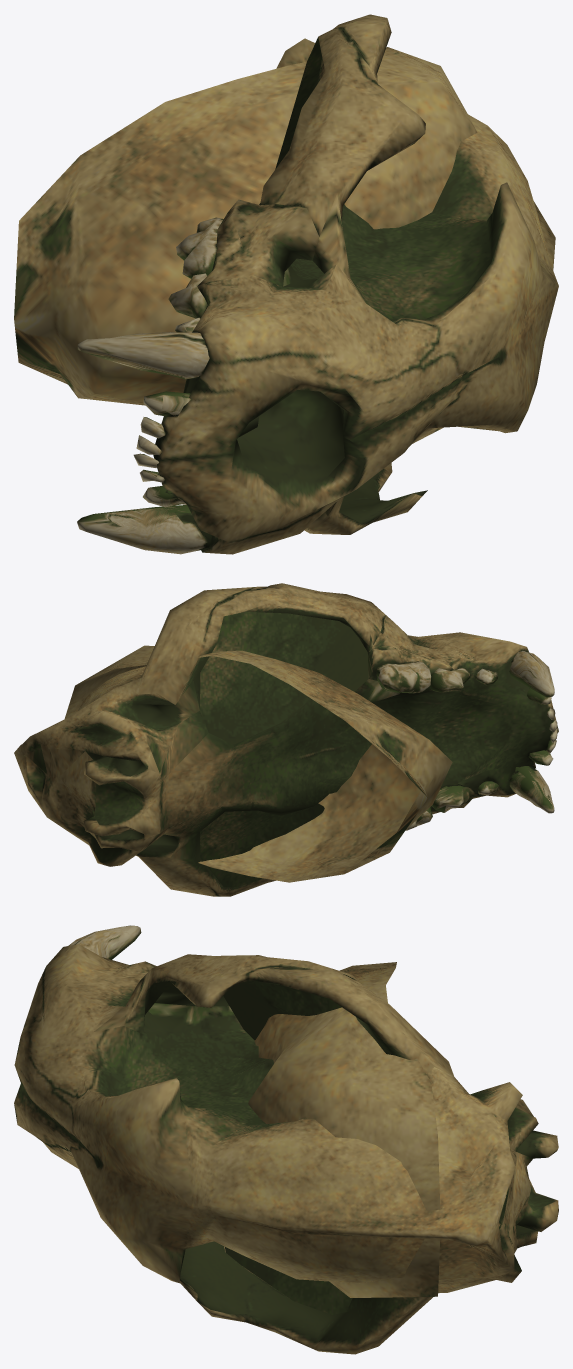
The model's file is M_CougarSkullMask.fbx.
3 views of the same model, one above another, from view 1: azimuth 30°, elevation 25°; view 2: azimuth 150°, elevation 25°; view 3: azimuth 270°, elevation 25° (orthographic). The views are drawn at different scales.
Parts seen in each view (by area): view 1: Cougar.001; view 2: Cougar.001; view 3: Cougar.001.
Part boxes in pixels (box(x1,y1,x2,y2)): Cougar.001: box(14, 14, 558, 554); Cougar.001: box(14, 583, 558, 896); Cougar.001: box(14, 925, 558, 1354).
Size of the model in its own units: 0.2062 by 0.1476 by 0.1937.
